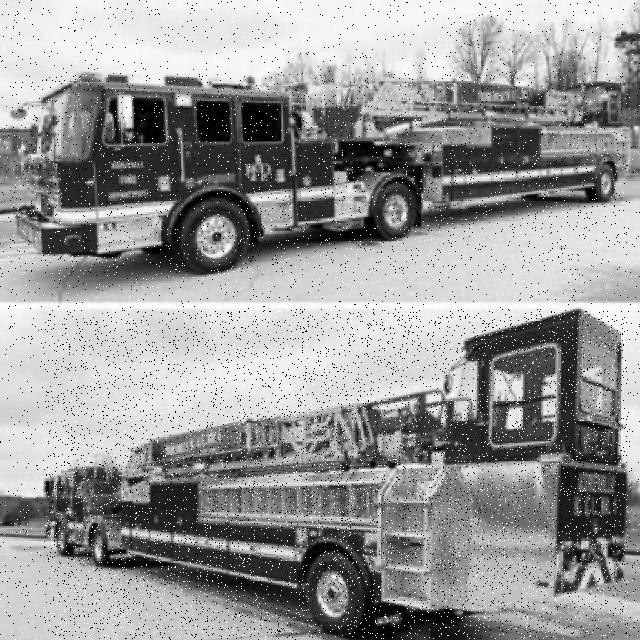Fire Truck: (44, 310, 628, 639), (12, 72, 628, 275)
